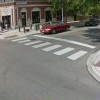crosswalk: (12, 37, 88, 61)
